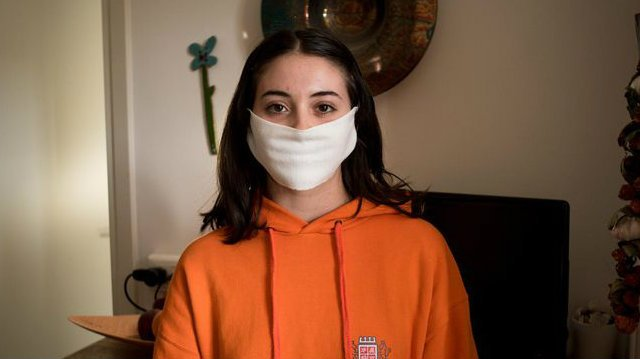with_mask: (233, 45, 377, 192)
